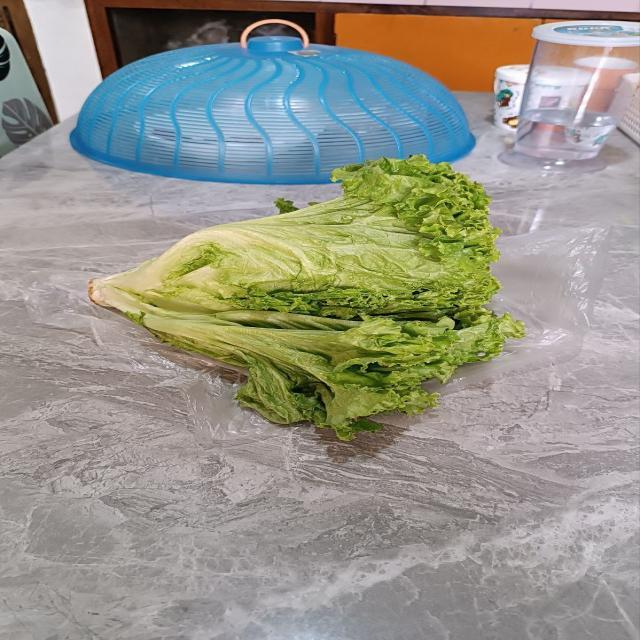Lettuce-Ready-to-Harvest: (83, 157, 509, 440)
